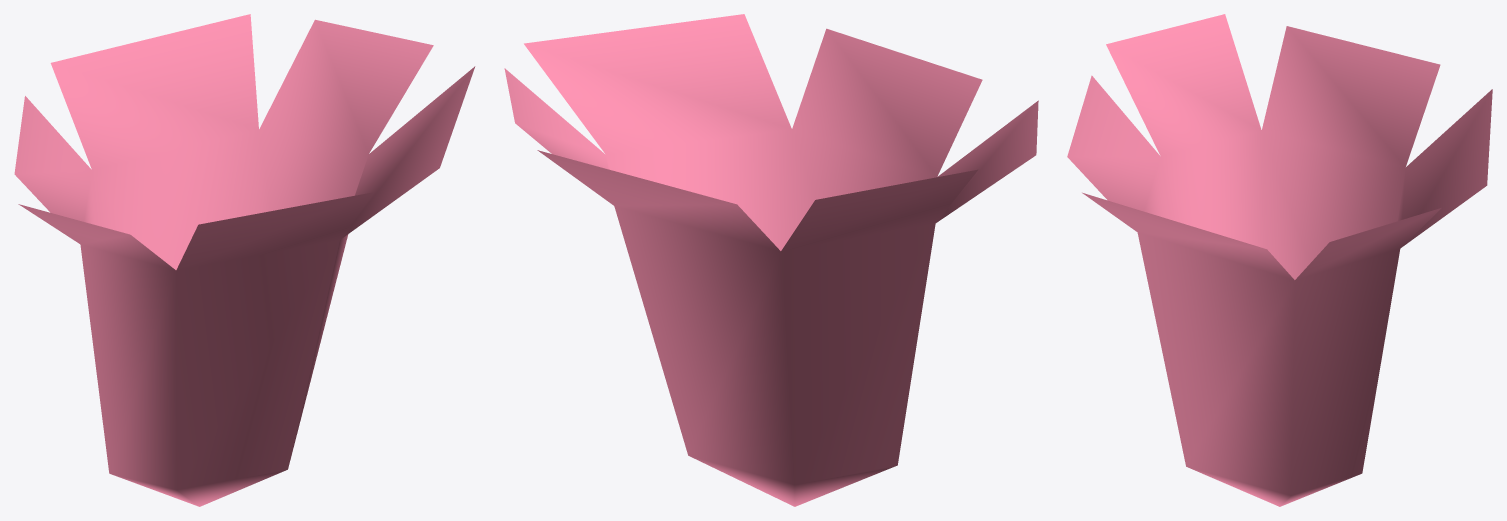
The model's file is Petal_4.glb.
The picture shows the model from 3 angles, left to right: view 1: azimuth 30°, elevation 25°; view 2: azimuth 150°, elevation 25°; view 3: azimuth 270°, elevation 25°; orthographic projection. The views are drawn at different scales.
Parts seen in each view (by area): view 1: Petal_4; view 2: Petal_4; view 3: Petal_4.
Boxes of the visible parts, x1,y1,x2,y2 form: Petal_4: (14,14,475,506); Petal_4: (504,14,1038,506); Petal_4: (1067,14,1492,506).
Size of the model in its own units: 0.3291 by 0.2521 by 0.2445.
